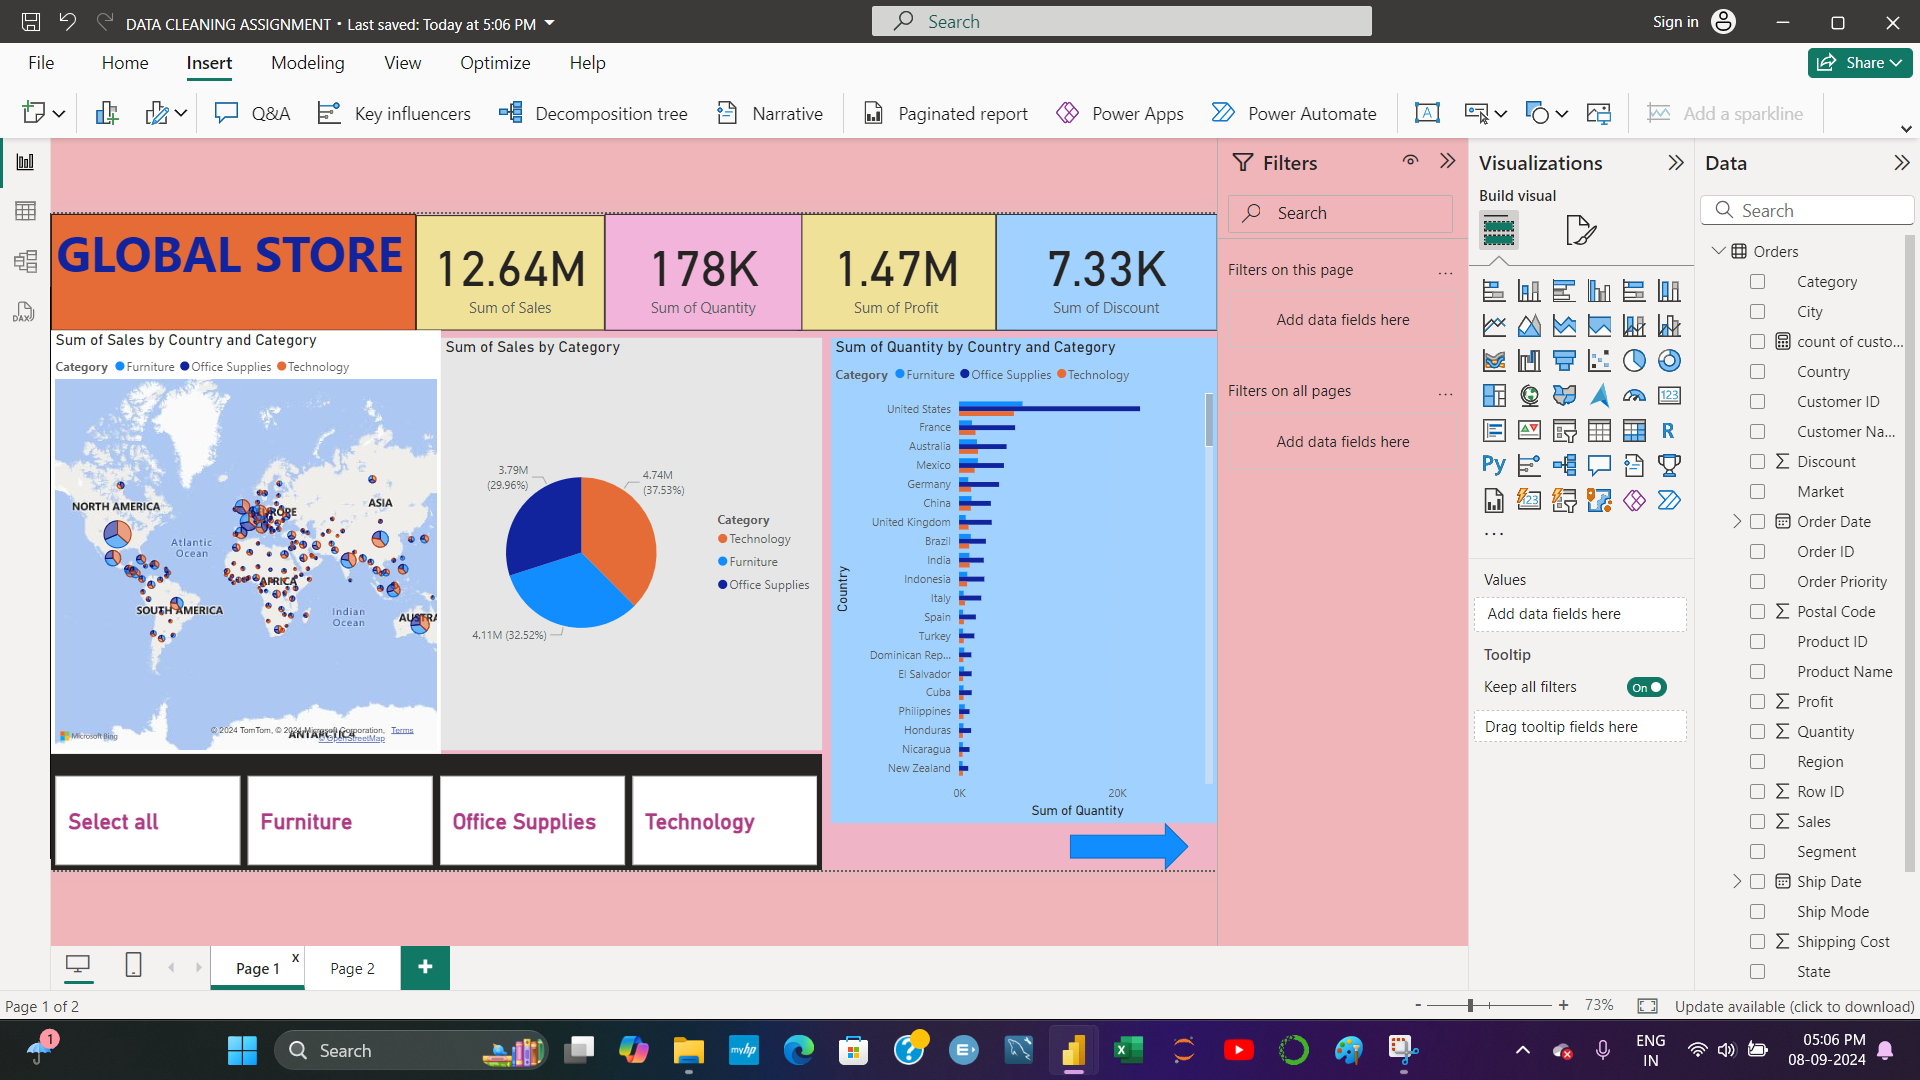

Layout of this report page (visuals, bound fields, positions):
{"tool":"powerbi","page":{"name":"Page 1","canvas":[1280,720],"ordinal":0},"visuals":[{"type":"textbox","box":[0,0,400.7,127.6],"z":1},{"type":"card","fields":{"Values":["Sum(Orders.Discount)"]},"box":[1037.4,0,242.9,127.6],"z":2},{"type":"card","fields":{"Values":["Sum(Orders.Sales)"]},"box":[400.7,1.4,207.2,126.2],"z":3},{"type":"card","fields":{"Values":["Sum(Orders.Profit)"]},"box":[819.2,0,218.2,127.6],"z":4},{"type":"card","fields":{"Values":["Sum(Orders.Quantity)"]},"box":[607.9,0,216.8,127.6],"z":5},{"type":"pieChart","fields":{"Category":["Orders.Category"],"Y":["Sum(Orders.Sales)"]},"box":[428.1,135.8,418.5,452.8],"z":6},{"type":"clusteredBarChart","fields":{"Category":["Orders.Country"],"Series":["Orders.Category"],"Y":["Sum(Orders.Quantity)"]},"box":[856.3,135.8,424,532.4],"z":9},{"type":"advancedSlicerVisual","fields":{"Values":["Orders.Category"]},"box":[0,592.8,846.7,127.6],"z":10},{"type":"map","fields":{"Category":["Orders.Country"],"Size":["Sum(Orders.Sales)"],"Series":["Orders.Category"]},"box":[0,127.6,428.1,465.2],"z":11},{"type":"shape","box":[1118.9,668,130.5,52.2],"z":12}]}

Visuals, with their boxes on the page's 1280x720 design canvas (x1, y1, x2, y2). These are canvas units, not pixel positions in the 1920x1080 screenshot, which may show the page scaled, cropped or inside an application window:
textbox: box(0, 0, 401, 128)
card - Sum(Orders.Discount): box(1037, 0, 1280, 128)
card - Sum(Orders.Sales): box(401, 1, 608, 128)
card - Sum(Orders.Profit): box(819, 0, 1037, 128)
card - Sum(Orders.Quantity): box(608, 0, 825, 128)
pieChart - Orders.Category x Sum(Orders.Sales): box(428, 136, 847, 589)
clusteredBarChart - Orders.Country x Orders.Category: box(856, 136, 1280, 668)
advancedSlicerVisual - Orders.Category: box(0, 593, 847, 720)
map - Orders.Country x Sum(Orders.Sales): box(0, 128, 428, 593)
shape: box(1119, 668, 1249, 720)
